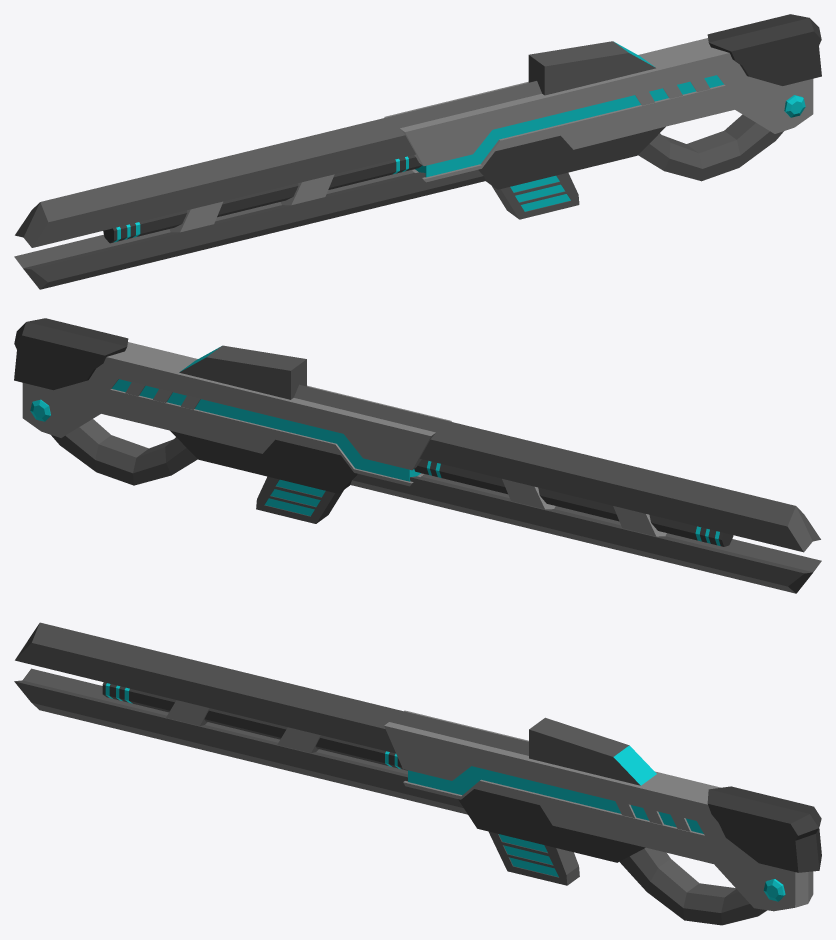
Rendered from MineGun.fbx.
The picture shows the model from 3 angles, top to bottom: view 1: azimuth 30°, elevation 25°; view 2: azimuth 150°, elevation 25°; view 3: azimuth 330°, elevation 25°; orthographic projection.
Parts seen in each view (by area): view 1: MineGun; view 2: MineGun; view 3: MineGun.
Boxes of the visible parts, x1,y1,x2,y2 form: MineGun: [14, 14, 821, 289]; MineGun: [14, 318, 821, 593]; MineGun: [14, 622, 821, 925].
Size of the model in its own units: 141 by 25.75 by 7.48.
